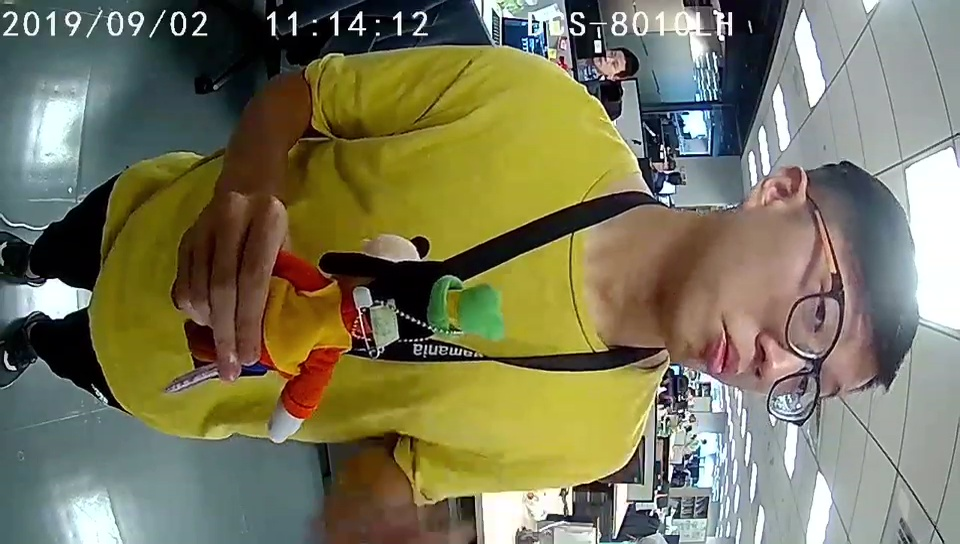goofy: (268, 250, 503, 441)
